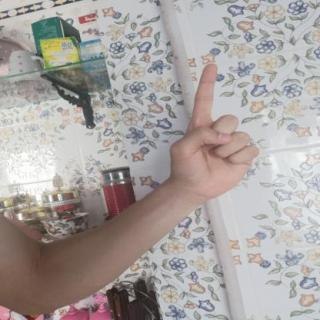BAA: (157, 54, 266, 207)
